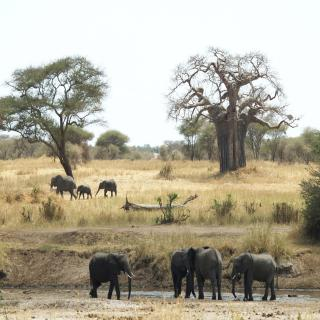Elephant: (86, 249, 138, 303), (230, 250, 282, 304), (184, 242, 225, 302), (48, 171, 79, 201), (95, 177, 118, 199), (76, 182, 92, 202)
